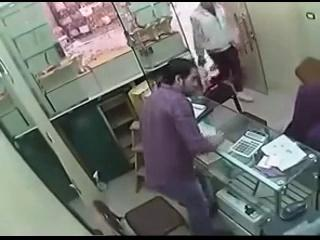Normal: (139, 59, 226, 234), (189, 2, 247, 100)
